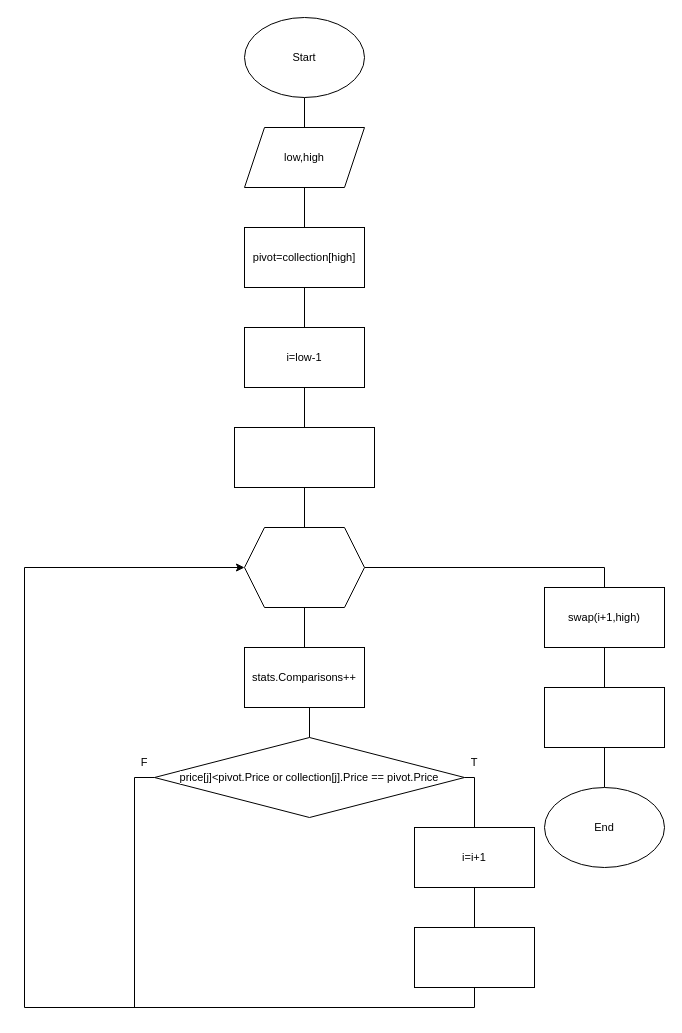
The diagram is 682 pixels wide and 1033 high, and some of its shapes have lost their labels. Each missing label, with the centre of its shape:
"intermediateSteps.Add(...)" belongs at (304,457).
"j from low to high-1" belongs at (304,567).
"return i+1" belongs at (604,717).
"swap(i,j)" belongs at (474,957).
